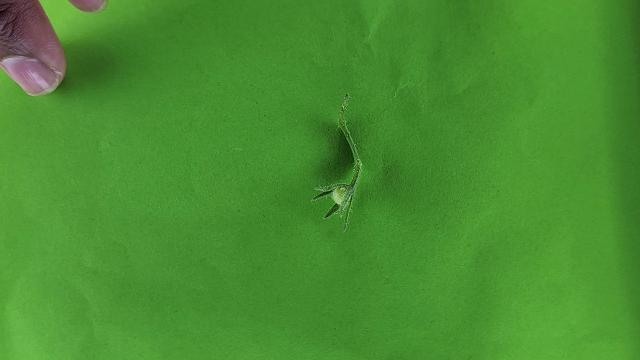Fruit Bud: (311, 181, 355, 223)
